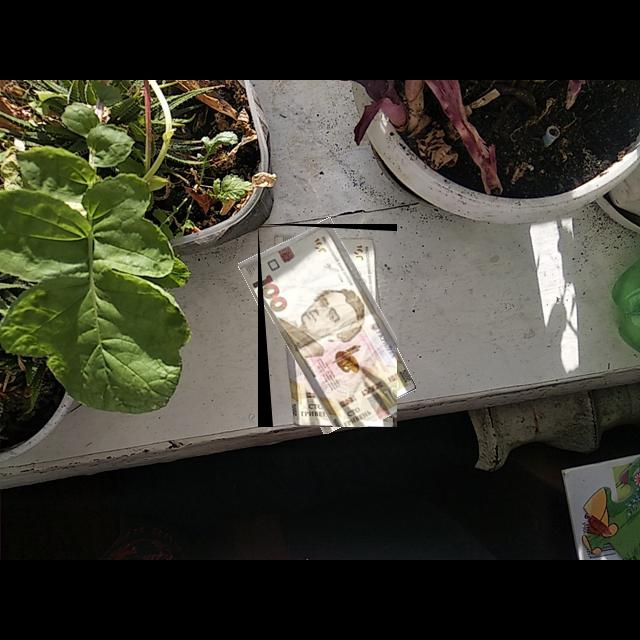100uah: (258, 224, 398, 428)
